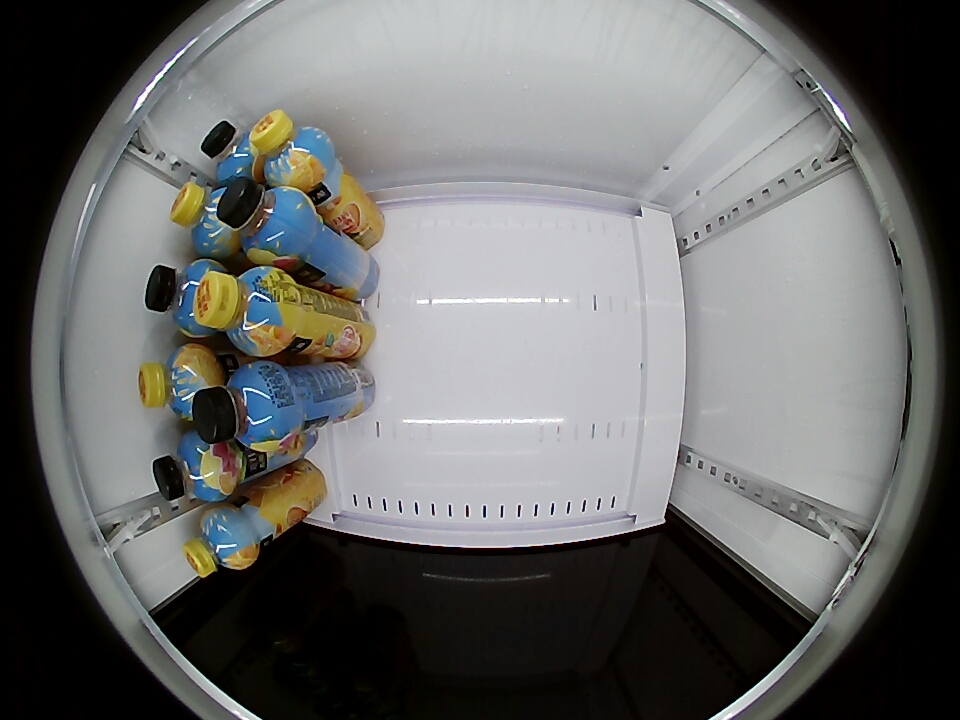guolicheng: (192, 267, 292, 357), (249, 110, 334, 190), (138, 343, 217, 419), (182, 505, 257, 579), (170, 181, 239, 258)
guolicheng2: (192, 360, 295, 451), (215, 179, 314, 266), (152, 431, 238, 503), (145, 259, 222, 338), (201, 120, 263, 185)
